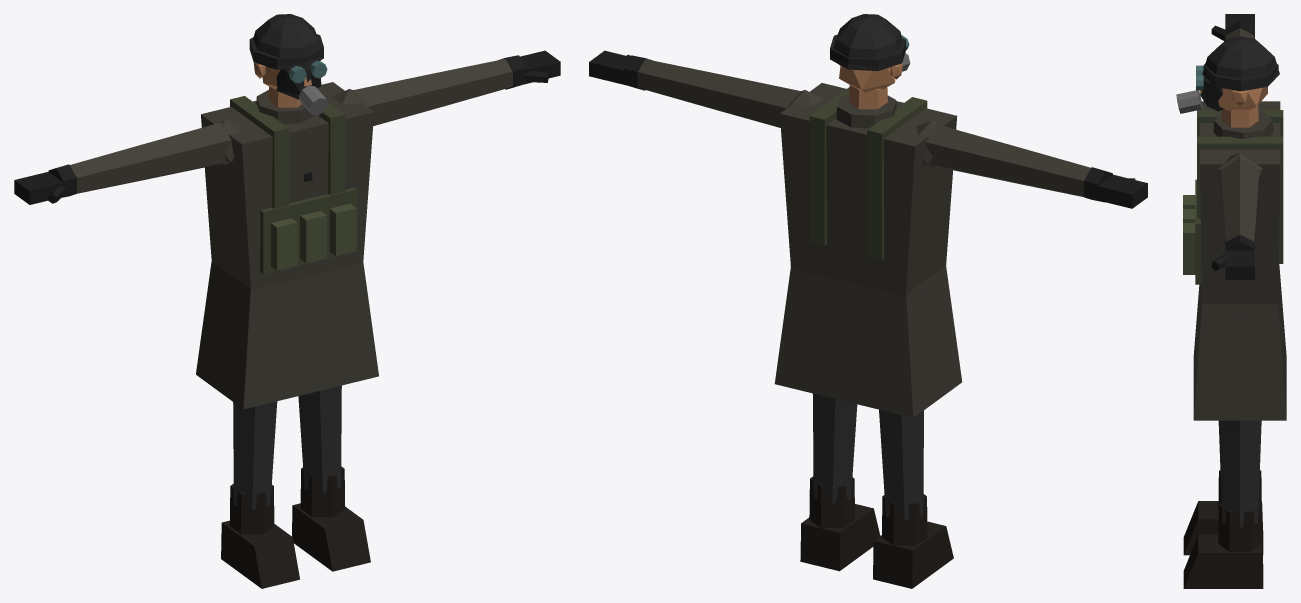
File: Terrorist_Gasmask.glb
The picture shows the model from 3 angles, left to right: view 1: azimuth 30°, elevation 25°; view 2: azimuth 150°, elevation 25°; view 3: azimuth 270°, elevation 25°; orthographic projection. The views are drawn at different scales.
Visible parts, largest first — view 1: Terrorist_Gasmask; view 2: Terrorist_Gasmask; view 3: Terrorist_Gasmask.
Boxes of the visible parts, x1,y1,x2,y2 form: Terrorist_Gasmask: (14,14,560,588); Terrorist_Gasmask: (589,14,1147,588); Terrorist_Gasmask: (1176,14,1286,588).
Size of the model in its own units: 1.8 by 1.74 by 0.3322.
